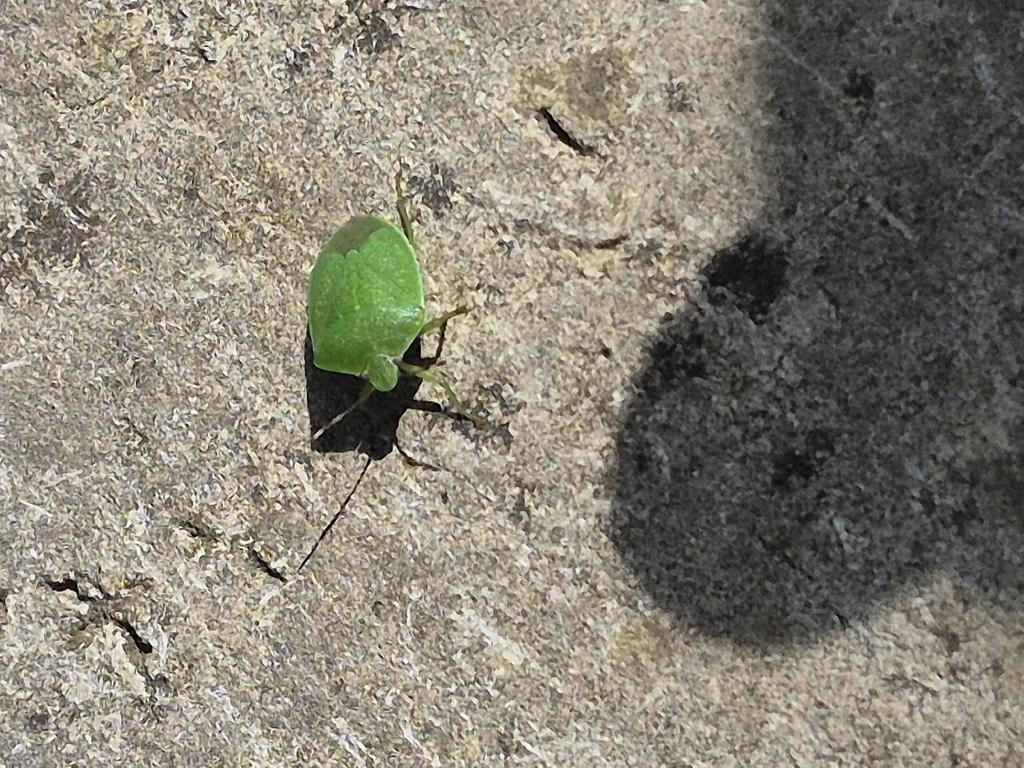stink_bugs: (229, 139, 526, 476)
